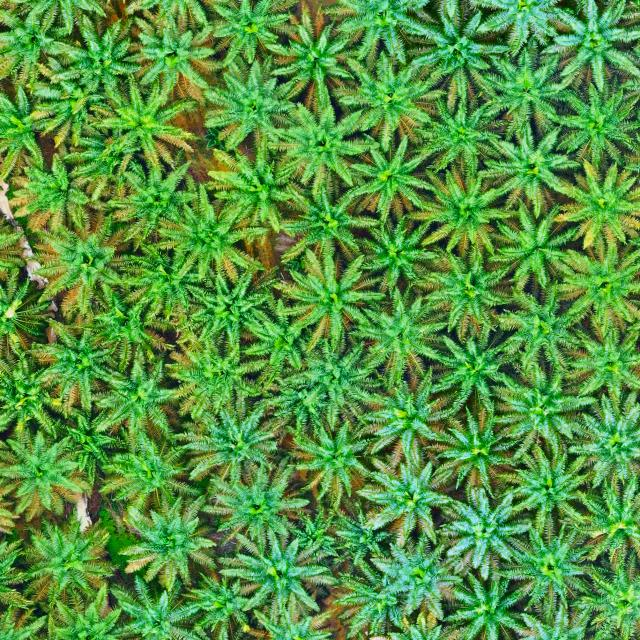Tree: (394, 3, 522, 120), (269, 245, 398, 357), (344, 276, 454, 396), (488, 514, 616, 617), (211, 524, 343, 622), (488, 353, 610, 459), (330, 46, 448, 152), (356, 363, 464, 478), (25, 204, 133, 318), (283, 408, 397, 516), (198, 457, 316, 559), (167, 392, 283, 494), (86, 339, 192, 448), (262, 95, 386, 188), (202, 56, 319, 151), (422, 398, 522, 508), (24, 312, 123, 422), (548, 64, 640, 182), (408, 165, 518, 263), (260, 3, 364, 106), (435, 482, 541, 583), (17, 508, 117, 614), (411, 244, 516, 344), (154, 194, 270, 284), (486, 276, 588, 378), (96, 426, 206, 520), (159, 334, 270, 427), (534, 0, 640, 97), (550, 228, 640, 342), (117, 496, 219, 596), (97, 76, 201, 174), (488, 196, 594, 292), (354, 453, 454, 552), (429, 322, 528, 422), (206, 142, 313, 234), (280, 174, 380, 271), (0, 418, 91, 524), (557, 467, 640, 583), (344, 132, 444, 228), (368, 532, 470, 626), (502, 440, 596, 541), (183, 259, 281, 355), (480, 120, 590, 205), (289, 336, 380, 438), (6, 144, 106, 236), (479, 41, 574, 137), (112, 152, 198, 257), (563, 384, 640, 501), (116, 236, 212, 329), (37, 10, 140, 96), (120, 9, 220, 95), (554, 158, 640, 258), (408, 89, 504, 177), (235, 289, 316, 393), (351, 206, 440, 299), (92, 279, 178, 372), (111, 567, 220, 640), (59, 120, 150, 206), (16, 59, 103, 148), (442, 563, 542, 640), (321, 0, 434, 68), (203, 0, 305, 71), (564, 313, 640, 407), (183, 562, 271, 640), (457, 0, 567, 61), (332, 551, 398, 640), (0, 346, 59, 440), (0, 85, 49, 185), (0, 269, 54, 359), (329, 505, 397, 574), (61, 410, 126, 480), (50, 597, 145, 640), (270, 377, 328, 440), (292, 502, 345, 564)
